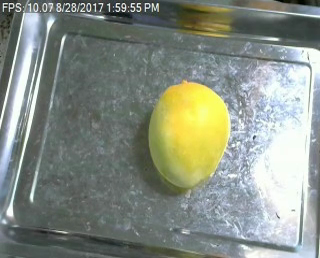Mango: (147, 80, 228, 185)
